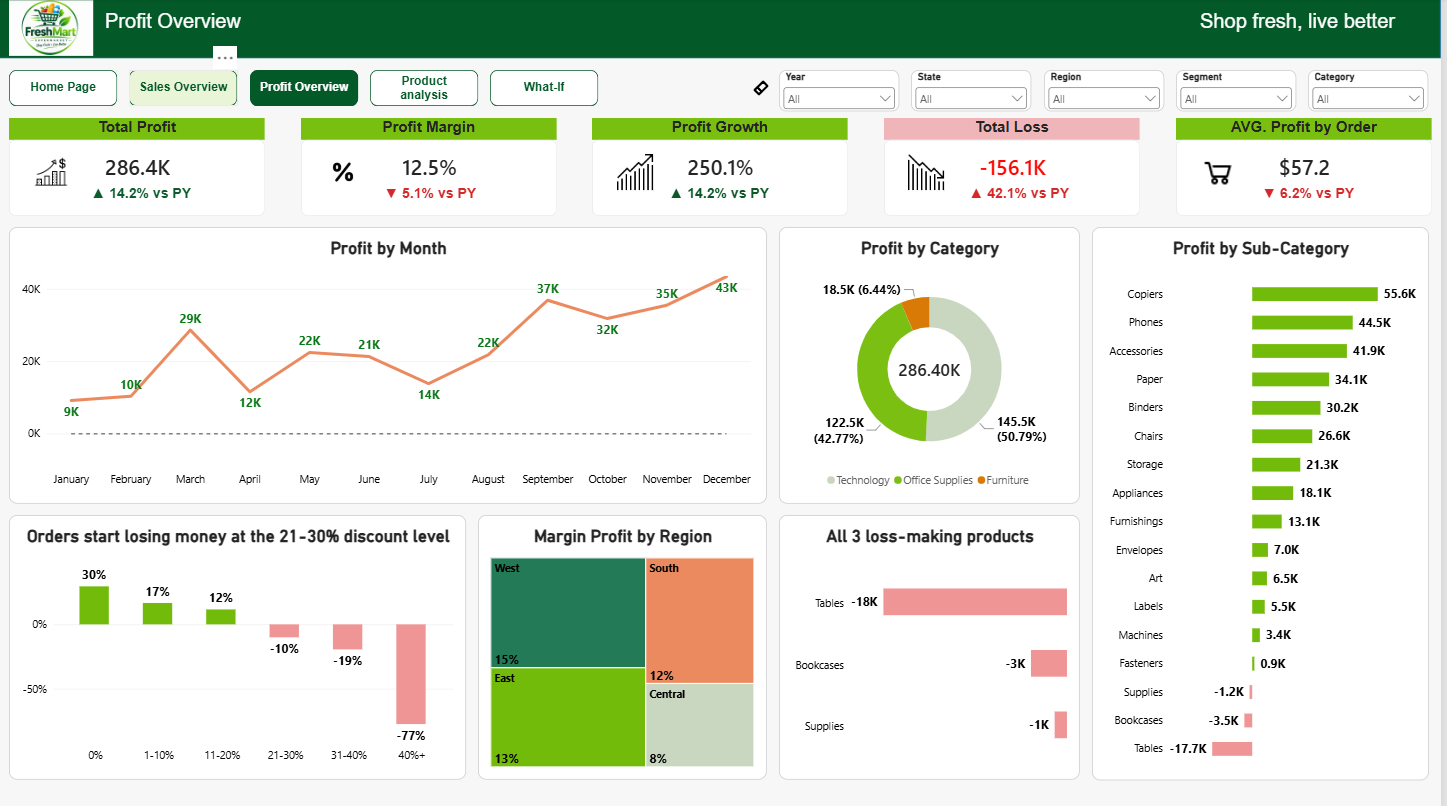

This screenshot's page, from the dashboard's own definition file:
{"tool":"powerbi","page":{"name":"Profit overview","canvas":[1920,1080],"ordinal":2},"visuals":[{"type":"shape","box":[0,0,1920,80],"z":0},{"type":"image","box":[16,0,112,80],"z":1000},{"type":"textbox","box":[144,16,320,48],"z":2000},{"type":"textbox","box":[1600,16,320,48],"z":3000},{"type":"shape","box":[0,80,1920,80],"z":4000},{"type":"actionButton","box":[16,96,144,48],"z":5000},{"type":"actionButton","box":[176,96,144,48],"z":6000},{"type":"actionButton","box":[336,96,144,48],"z":7000},{"type":"actionButton","box":[496,96,144,48],"z":8000},{"type":"actionButton","box":[656,96,144,48],"z":9000},{"type":"cardVisual","title":"Total Profit","fields":{"Data":["Sum(Superstore_Data_with_Sales_Agent.Profit)"]},"box":[16,160,340,130],"z":10000},{"type":"cardVisual","title":"Profit Margin","fields":{"Data":["Superstore_Data_with_Sales_Agent.Profit Margin"]},"box":[404,160,340,130],"z":11000},{"type":"cardVisual","title":"Profit Growth","fields":{"Data":["Metrics.Profit Growth %"]},"box":[792,160,340,130],"z":12000},{"type":"cardVisual","title":"Total Loss","fields":{"Data":["Superstore_Data_with_Sales_Agent.Total loss"]},"box":[1180,160,340,130],"z":13000},{"type":"cardVisual","title":"AVG. Profit by Order","fields":{"Data":["Metrics.Average Profit per Order"]},"box":[1568,160,340,130],"z":14000},{"type":"cardVisual","fields":{"Data":["Metrics.Profit Growth Indicator"]},"box":[80,240,224,40],"z":15000},{"type":"slicer","fields":{"Values":["Superstore_Data_with_Sales_Agent.Region"]},"box":[1392,96,160,55],"z":16000},{"type":"slicer","fields":{"Values":["Superstore_Data_with_Sales_Agent.Category"]},"box":[1744,96,160,55],"z":17000},{"type":"slicer","fields":{"Values":["Superstore_Data_with_Sales_Agent.Segment"]},"box":[1568,96,160,55],"z":18000},{"type":"slicer","fields":{"Values":["calender.Year"]},"box":[1040,96,160,55],"z":19000},{"type":"actionButton","box":[992,96,48,48],"z":20000},{"type":"cardVisual","fields":{"Data":["Metrics.Profit Margin Growth Indicator"]},"box":[464,240,224,40],"z":21000},{"type":"cardVisual","fields":{"Data":["Metrics.Profit Growth Indicator 2"]},"box":[848,240,224,40],"z":22000},{"type":"cardVisual","fields":{"Data":["Metrics.Total Loss Growth Indicator"]},"box":[1248,240,224,40],"z":23000},{"type":"cardVisual","fields":{"Data":["Metrics.Avg Profit per Order Indicator"]},"box":[1632,240,224,40],"z":24000},{"type":"image","box":[48,208,48,48],"z":25000},{"type":"image","box":[436,208,48,48],"z":26000},{"type":"image","box":[824,208,48,48],"z":27000},{"type":"image","box":[1212,208,48,48],"z":28000},{"type":"image","box":[1600,208,48,48],"z":29000},{"type":"lineChart","title":"Profit by Month","fields":{"Category":["calender.Date.Variation.Date Hierarchy.Month"],"Y":["Count(Superstore_Data_with_Sales_Agent.Profet zero)","Sum(Superstore_Data_with_Sales_Agent.Profit)"]},"box":[16,304,1008,368],"z":30000},{"type":"donutChart","title":"Profit by Category","fields":{"Category":["Superstore_Data_with_Sales_Agent.Category"],"Y":["Sum(Superstore_Data_with_Sales_Agent.Profit)"]},"box":[1040,304,400,368],"z":31000},{"type":"treemap","title":"Margin Profit by Region","fields":{"Group":["Superstore_Data_with_Sales_Agent.Region"],"Values":["Metrics.Margin %"]},"box":[640,688,384,352],"z":32000},{"type":"slicer","fields":{"Values":["Superstore_Data_with_Sales_Agent.State"]},"box":[1216,96,160,55],"z":33000},{"type":"clusteredBarChart","title":"Profit by Sub-Category","fields":{"Category":["Superstore_Data_with_Sales_Agent.Sub-Category"],"Y":["Sum(Superstore_Data_with_Sales_Agent.Profit)"]},"box":[1456,304,448,736],"z":34000},{"type":"clusteredColumnChart","fields":{"Category":["Superstore_Data_with_Sales_Agent.Discount Bucket"],"Y":["Metrics.Margin %"]},"box":[16,688,608,352],"z":35000},{"type":"clusteredBarChart","fields":{"Category":["Superstore_Data_with_Sales_Agent.Sub-Category"],"Y":["Sum(Superstore_Data_with_Sales_Agent.Profit)"]},"box":[1040,688,400,352],"z":36000}]}

Visuals, with their boxes on the page's 1920x1080 design canvas (x1, y1, x2, y2). These are canvas units, not pixel positions in the 1447x806 screenshot, which may show the page scaled, cropped or inside an application window:
shape: [0,0,1920,80]
image: [16,0,128,80]
textbox: [144,16,464,64]
textbox: [1600,16,1920,64]
shape: [0,80,1920,160]
actionButton: [16,96,160,144]
actionButton: [176,96,320,144]
actionButton: [336,96,480,144]
actionButton: [496,96,640,144]
actionButton: [656,96,800,144]
"Total Profit" cardVisual: [16,160,356,290]
"Profit Margin" cardVisual: [404,160,744,290]
"Profit Growth" cardVisual: [792,160,1132,290]
"Total Loss" cardVisual: [1180,160,1520,290]
"AVG. Profit by Order" cardVisual: [1568,160,1908,290]
cardVisual - Metrics.Profit Growth Indicator: [80,240,304,280]
slicer - Superstore_Data_with_Sales_Agent.Region: [1392,96,1552,151]
slicer - Superstore_Data_with_Sales_Agent.Category: [1744,96,1904,151]
slicer - Superstore_Data_with_Sales_Agent.Segment: [1568,96,1728,151]
slicer - calender.Year: [1040,96,1200,151]
actionButton: [992,96,1040,144]
cardVisual - Metrics.Profit Margin Growth Indicator: [464,240,688,280]
cardVisual - Metrics.Profit Growth Indicator 2: [848,240,1072,280]
cardVisual - Metrics.Total Loss Growth Indicator: [1248,240,1472,280]
cardVisual - Metrics.Avg Profit per Order Indicator: [1632,240,1856,280]
image: [48,208,96,256]
image: [436,208,484,256]
image: [824,208,872,256]
image: [1212,208,1260,256]
image: [1600,208,1648,256]
"Profit by Month" lineChart: [16,304,1024,672]
"Profit by Category" donutChart: [1040,304,1440,672]
"Margin Profit by Region" treemap: [640,688,1024,1040]
slicer - Superstore_Data_with_Sales_Agent.State: [1216,96,1376,151]
"Profit by Sub-Category" clusteredBarChart: [1456,304,1904,1040]
clusteredColumnChart - Superstore_Data_with_Sales_Agent.Discount Bucket x Metrics.Margin %: [16,688,624,1040]
clusteredBarChart - Superstore_Data_with_Sales_Agent.Sub-Category x Sum(Superstore_Data_with_Sales_Agent.Profit): [1040,688,1440,1040]
